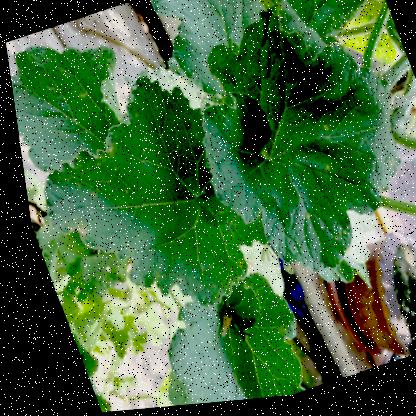Normal: (164, 13, 415, 300), (12, 81, 258, 346), (113, 252, 308, 409)
